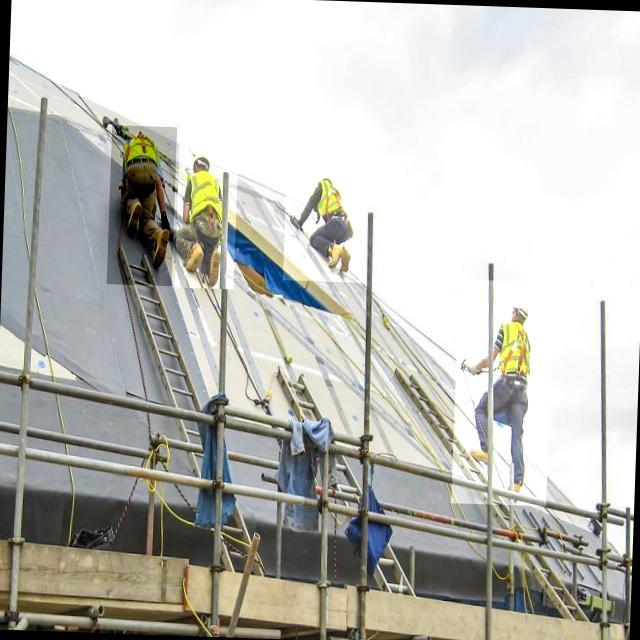Gloves: (466, 358, 487, 378)
Helmet: (192, 149, 216, 172), (513, 299, 532, 318)
Human: (451, 279, 554, 506), (106, 125, 177, 286), (283, 152, 368, 283), (175, 138, 240, 290)
Safety Boot: (151, 228, 169, 270), (185, 241, 206, 274), (126, 201, 143, 235), (210, 252, 225, 286), (471, 443, 493, 466), (339, 249, 355, 274), (327, 246, 343, 269)
Safety Vest: (493, 324, 535, 379), (185, 174, 229, 224), (120, 137, 162, 168), (310, 183, 348, 216)
